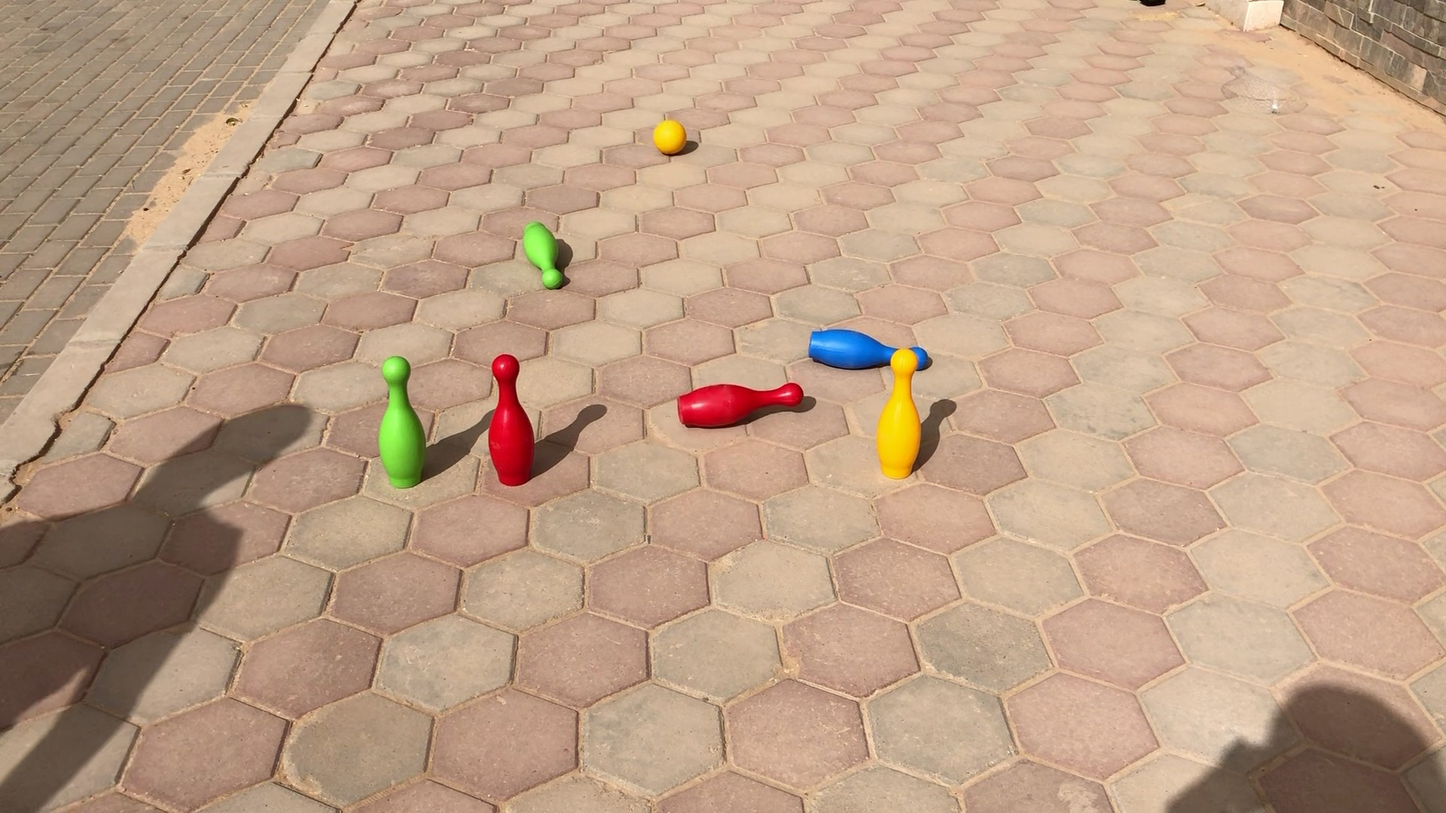bowling-pin: (800, 319, 936, 372), (375, 356, 427, 487), (487, 354, 535, 486), (880, 348, 926, 477), (678, 382, 805, 428), (520, 221, 568, 286)
